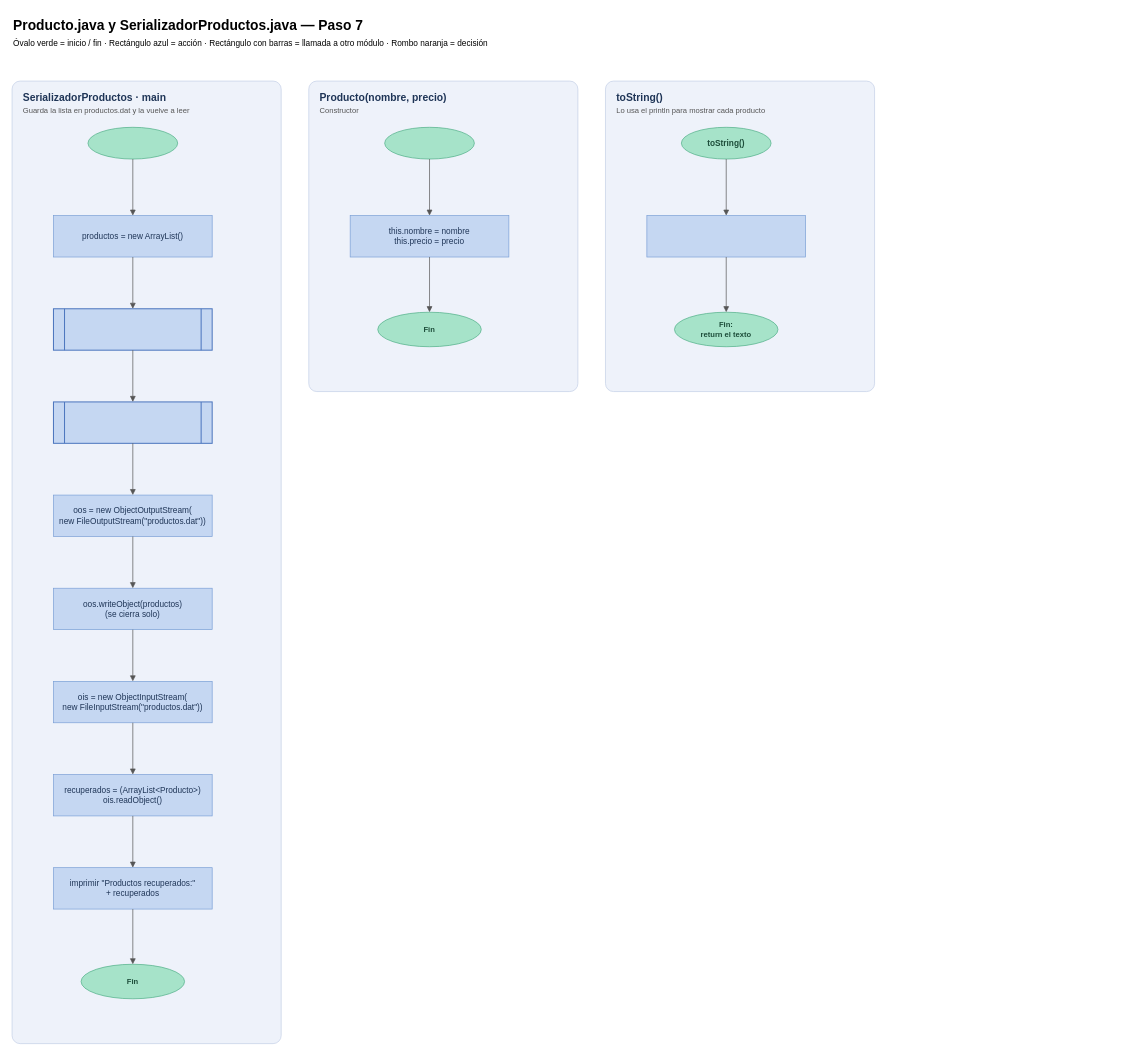
This 1128x1056 diagram has some shape labels left out. Here are the shapes that lost their labels. From the top down, the centre of each, then its label:
(x=132, y=143): Inicio
(x=429, y=143): Producto( nombre, precio)
(x=726, y=236): armar nombre + " - $" + precio
(x=132, y=329): productos.add( new Producto("Teclado", 25000))
(x=132, y=422): productos.add( new Producto("Mouse", 12000))
